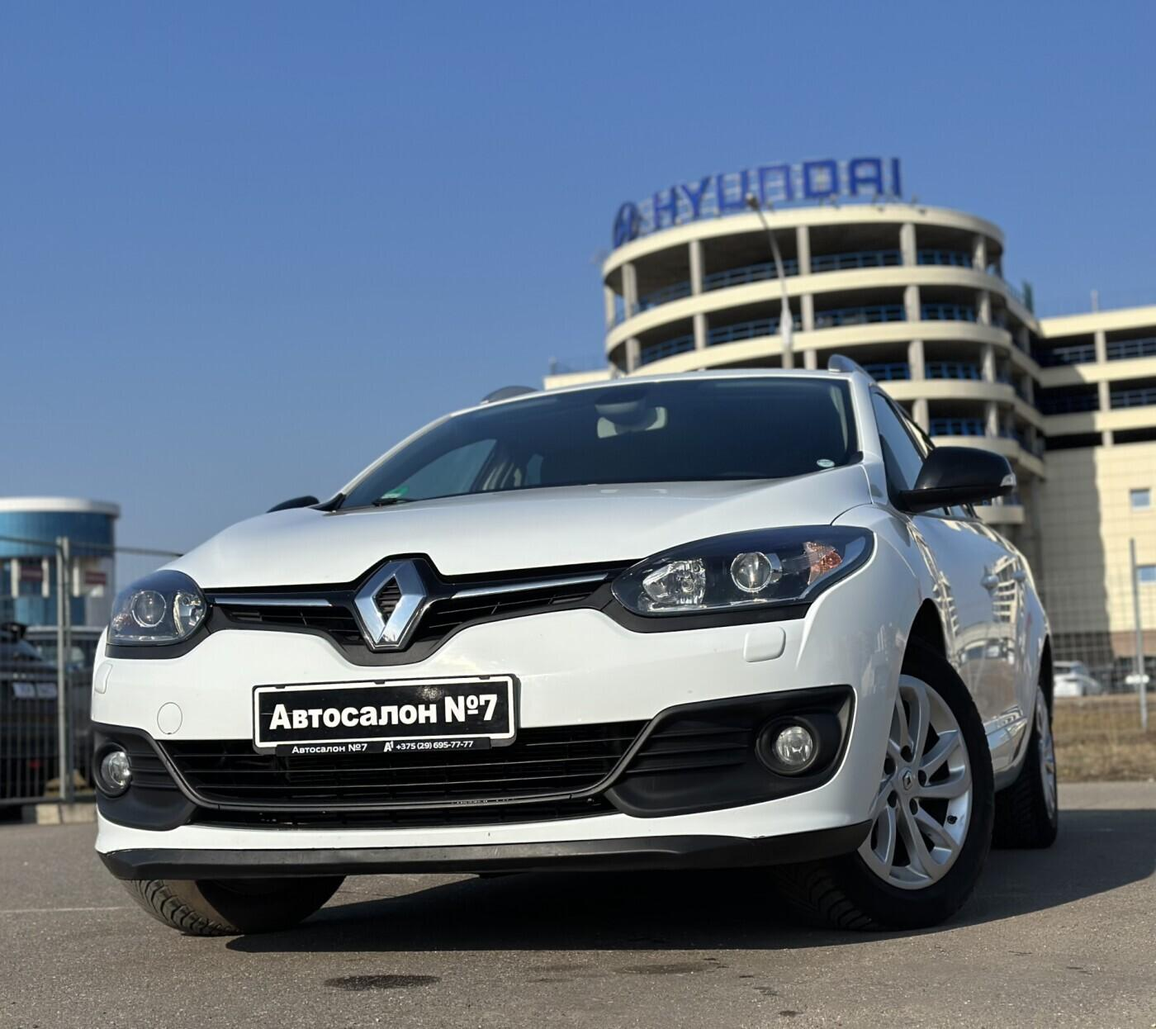Megane_2014-2016: (80, 361, 1083, 943)
